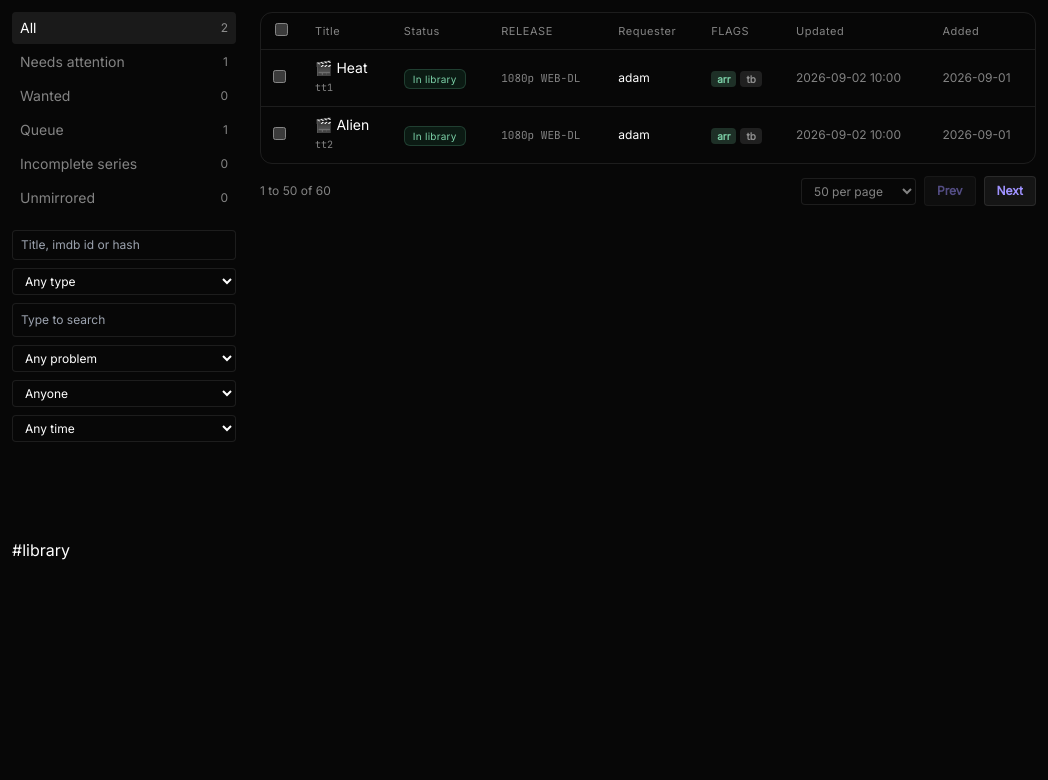
Test: Library tab › select all merges with other pages selections instead of discarding them
Step 1. Click the checkbox named "Select Heat" → (280, 76), box 273,70 -> 286,83
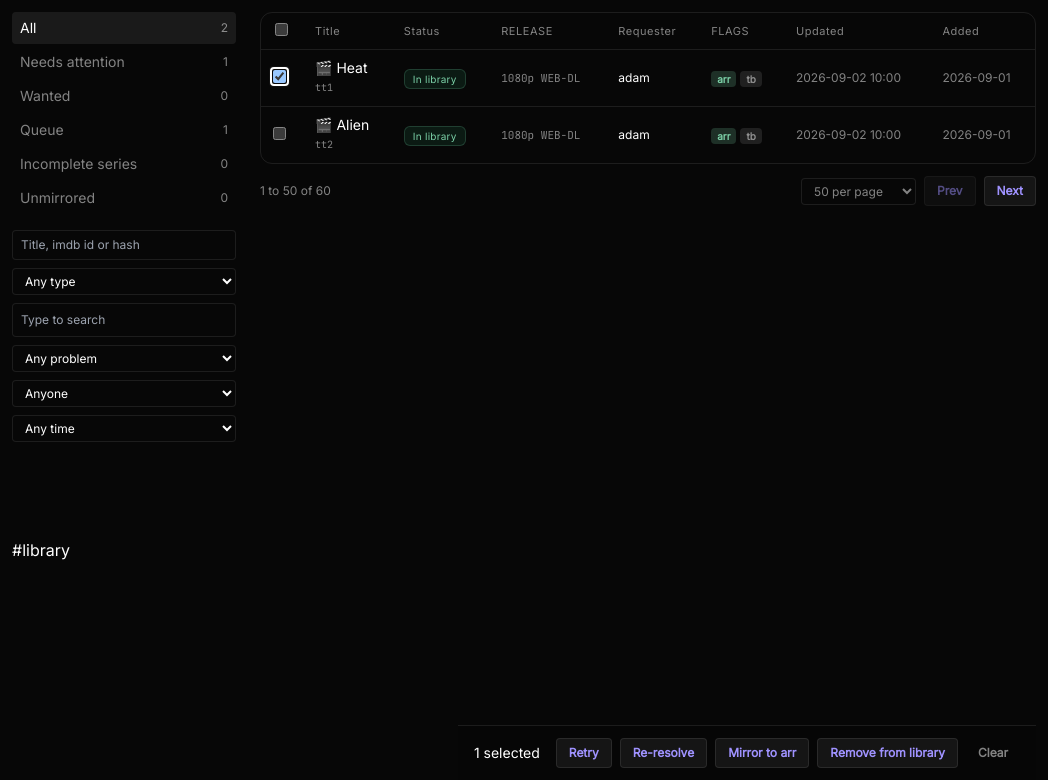
Expected: the text "1 selected" is shown, 474,743 -> 540,763
Step 2. Click the button with aria-label "Next page" → (1010, 191), box 984,176 -> 1036,206
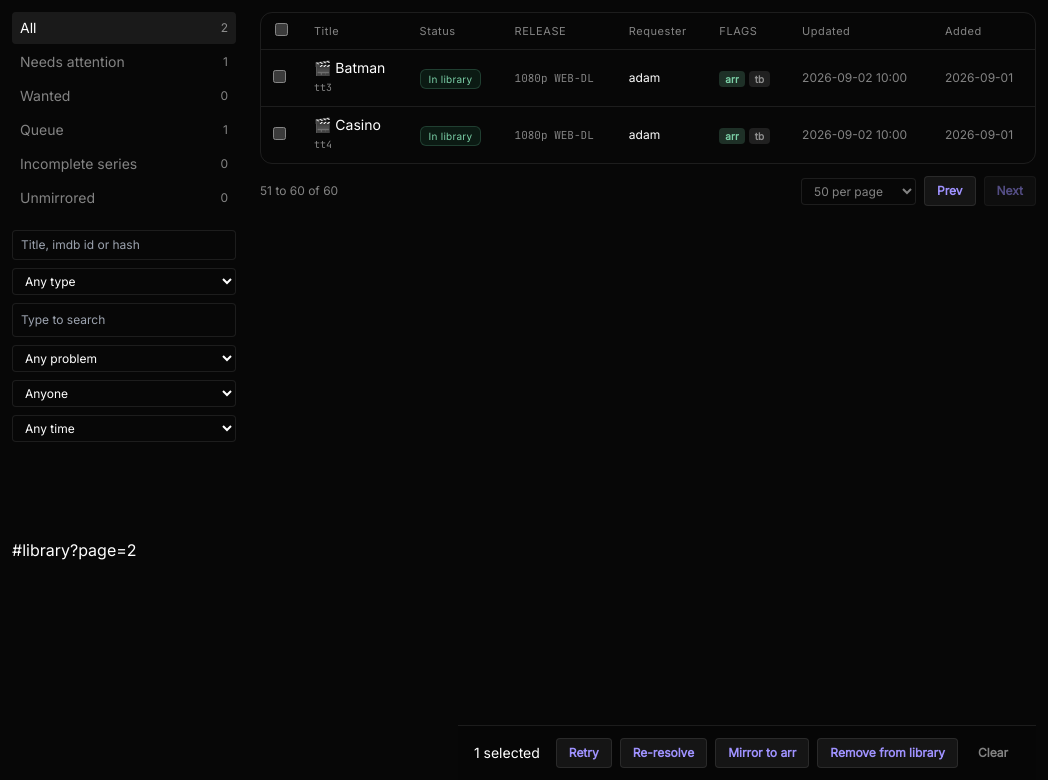
Expected: the text "Batman" is shown, 335,59 -> 385,76
Step 3. Click the checkbox named "Select all on this page" → (282, 30), box 275,23 -> 288,36
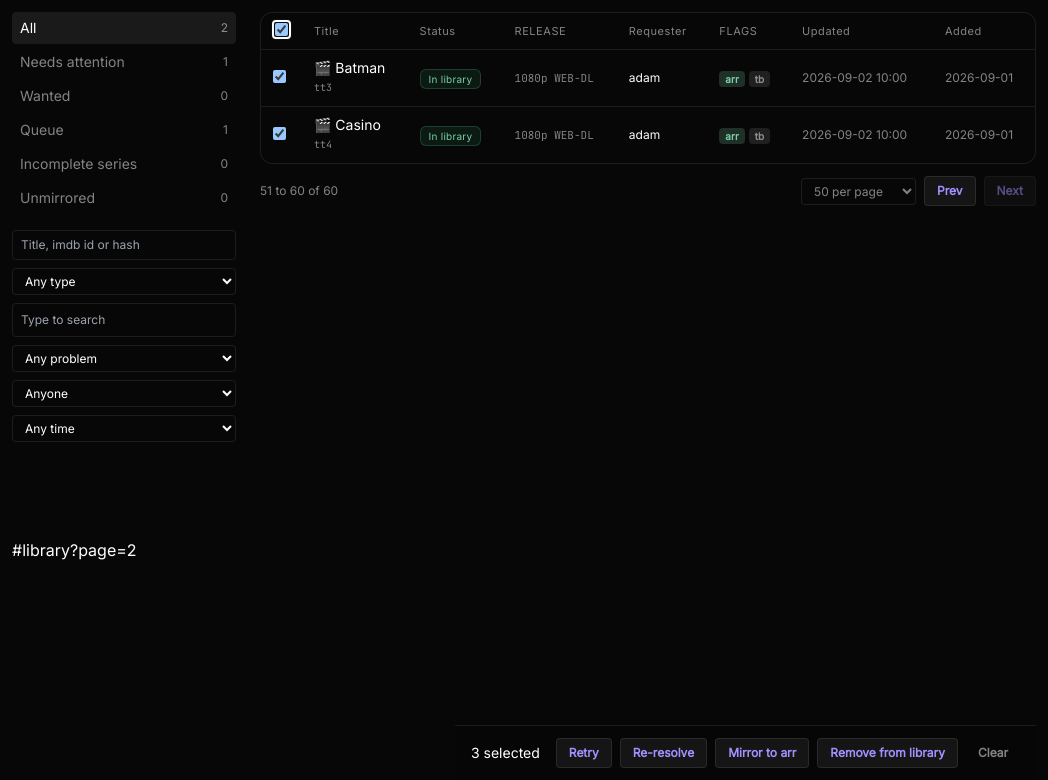
Expected: the text "3 selected" is shown, 471,743 -> 540,763
Step 4. Click the checkbox named "Select all on this page" → (282, 30), box 275,23 -> 288,36
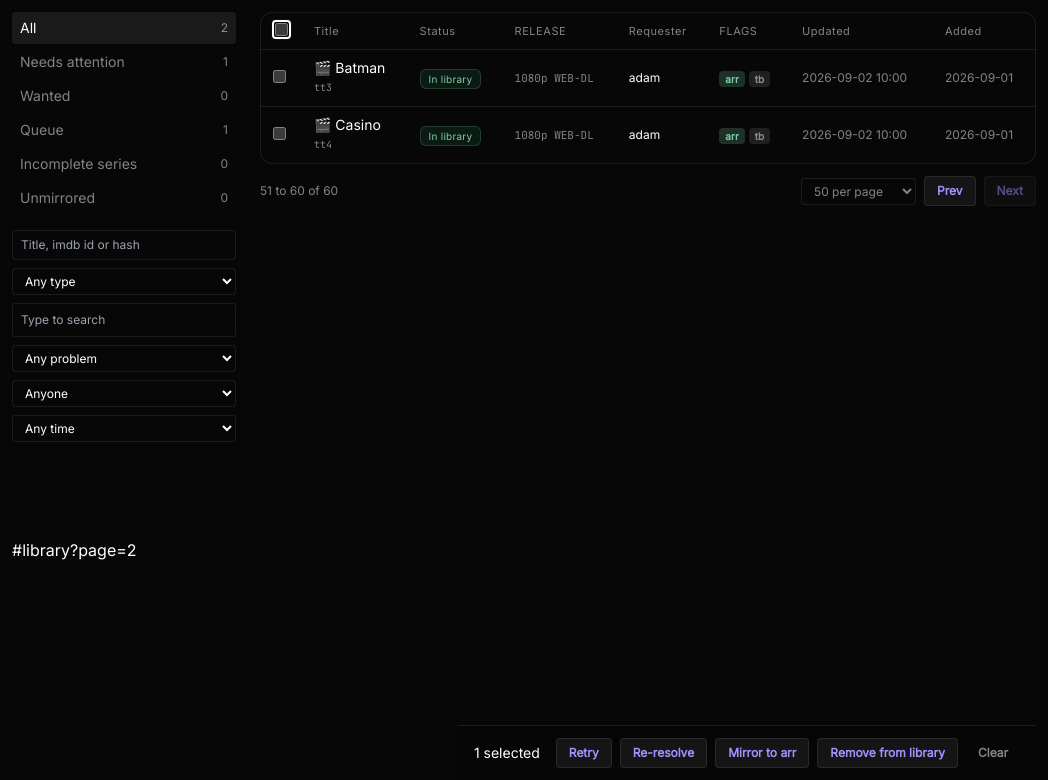
Expected: the text "1 selected" is shown, 474,743 -> 540,763
